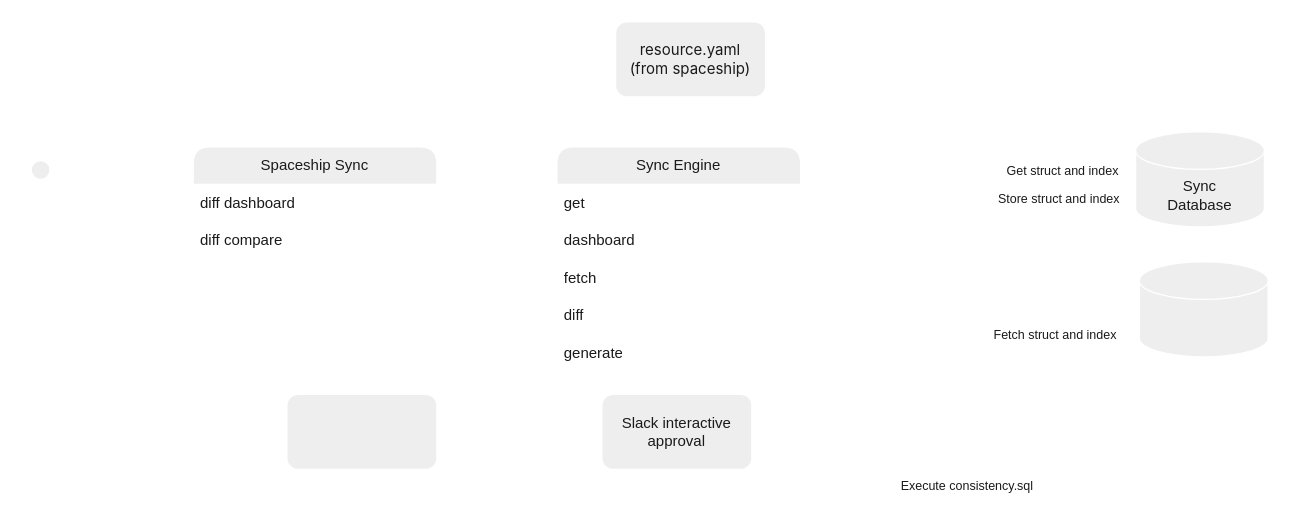
Image size: 1290x526. Some labels were removed from this diagram. Each missing label, with the centre of its shape:
Actor: the point at 40,197
Live Database: the point at 1203,309
Sync Repository (Archive): the point at 361,431
